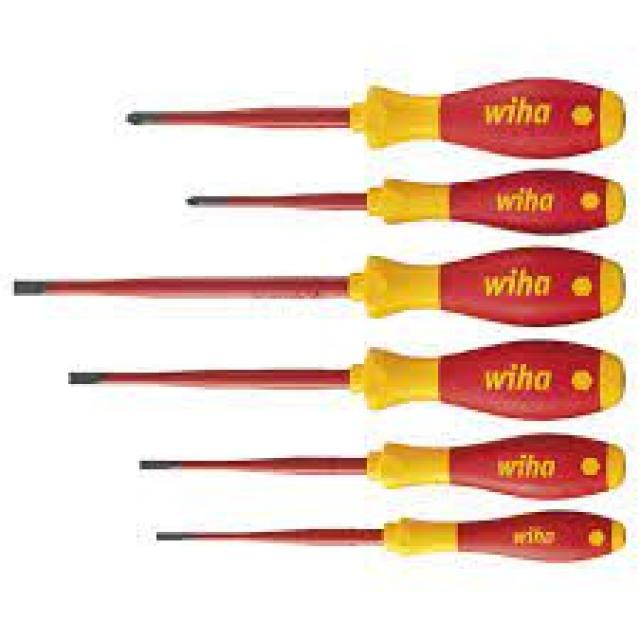screwdriver: (10, 242, 630, 328), (66, 336, 628, 422), (110, 72, 628, 160), (127, 429, 627, 504), (170, 168, 632, 239), (150, 506, 628, 566)
